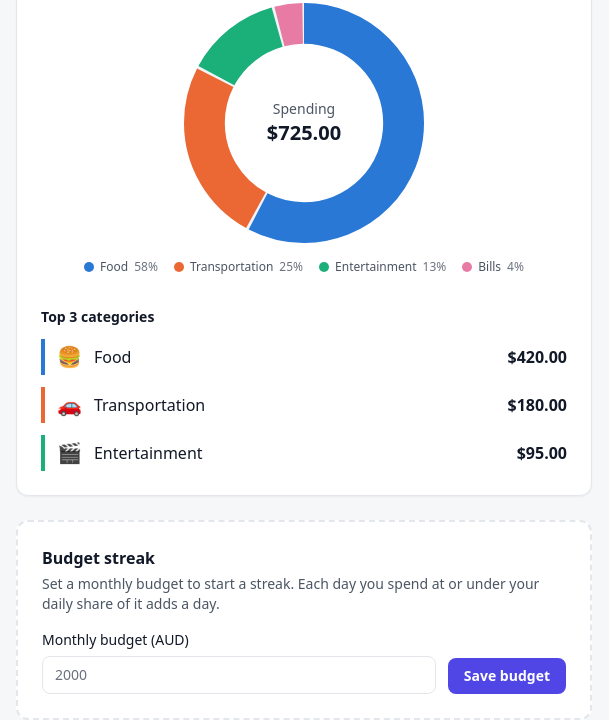
Scenario: MonthlyInsights › rejects a budget of abc
(page scrolled)
Type "abc" into the field labelled "Monthly budget (AUD)". click: [239, 675]
box: x1=42 y1=656 x2=436 y2=694
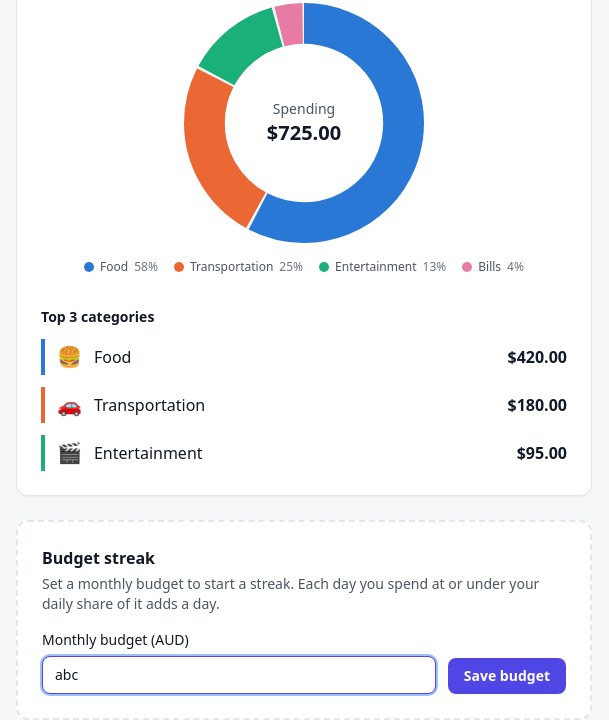
Click the button "Save budget". click: [507, 676]
box: x1=448 y1=658 x2=566 y2=694
(page scrolled)
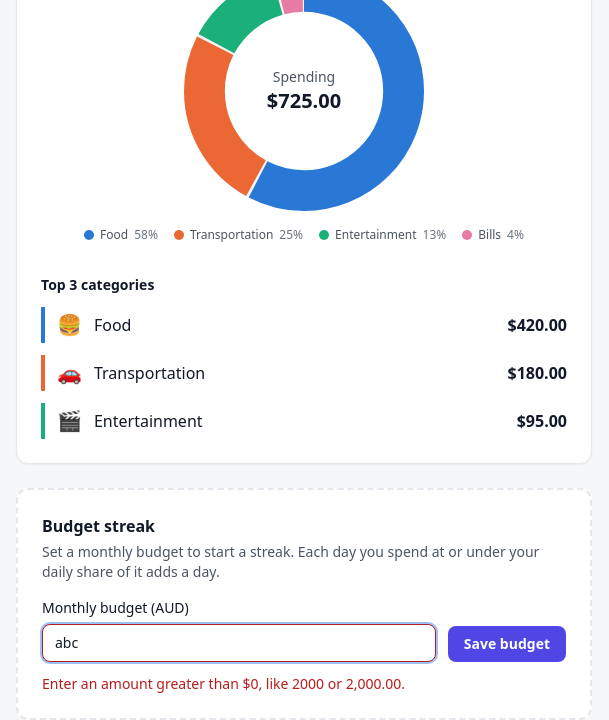
Expected: the message shows "greater than $0", x1=42 y1=674 x2=405 y2=693
